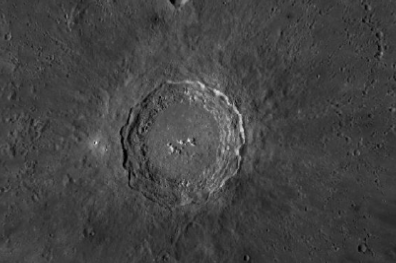crater: (71, 39, 305, 234)
